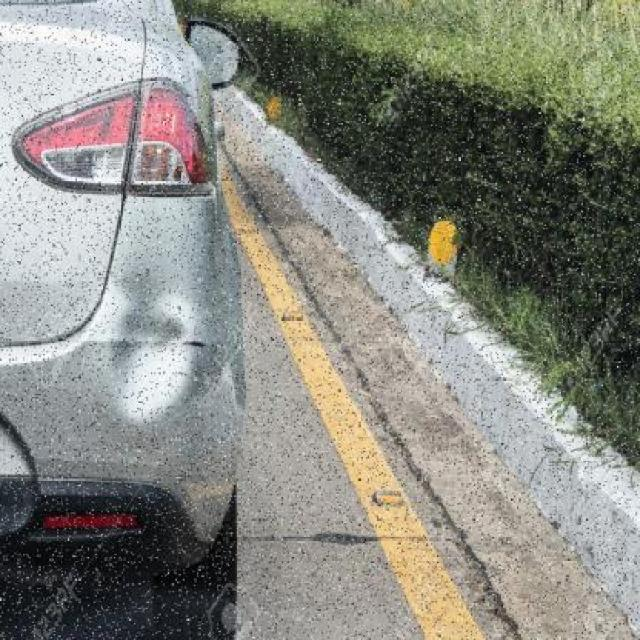rear-bumper-dent: (0, 257, 248, 565)
